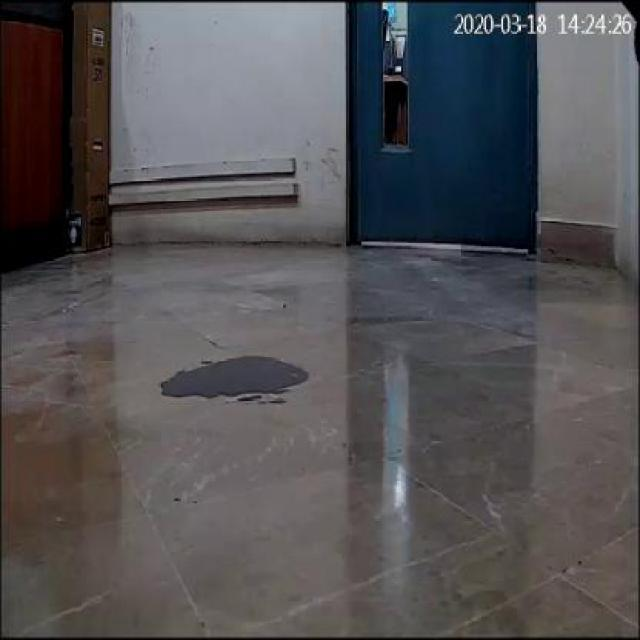spill: (154, 348, 308, 404)
